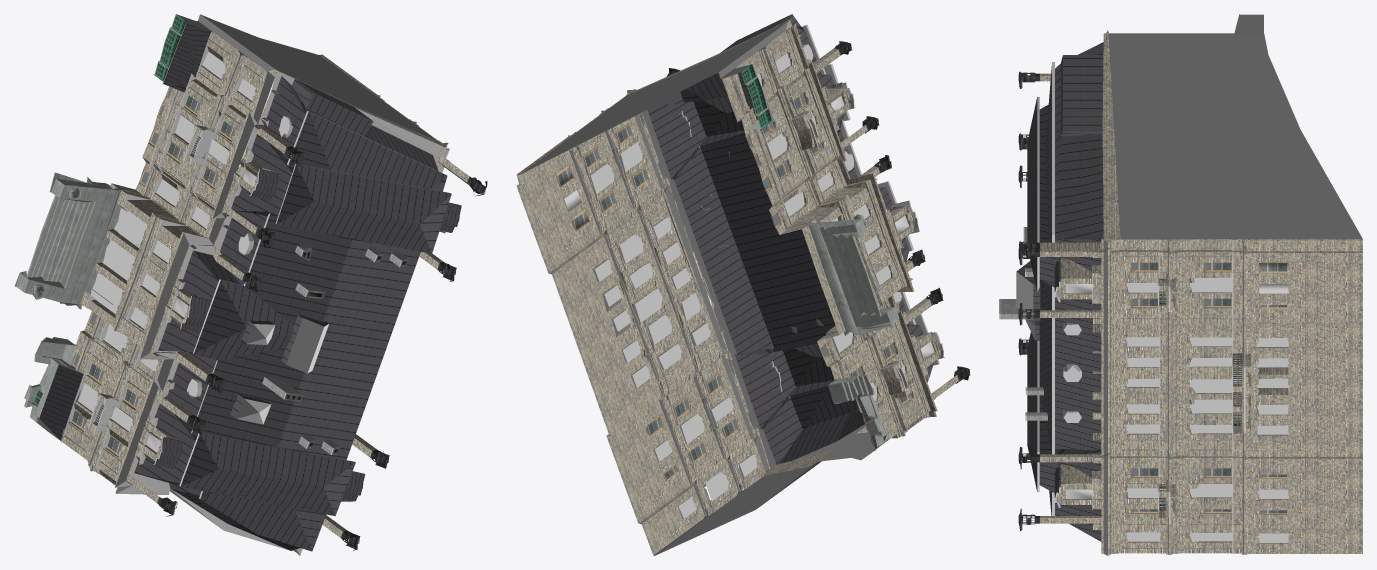
The model's file is Kohtu_6_1-origo.obj.
3 renders of one model, left to right at view 1: azimuth 30°, elevation 25°; view 2: azimuth 150°, elevation 25°; view 3: azimuth 270°, elevation 25°, orthographic. The views are drawn at different scales.
Visible parts, largest first — view 1: Kohtu_6_1; view 2: Kohtu_6_1; view 3: Kohtu_6_1.
Part boxes in pixels (x1,y1,x2,y2): Kohtu_6_1: (14,14,487,555); Kohtu_6_1: (516,14,970,555); Kohtu_6_1: (999,14,1362,555).
Size of the model in its own units: 30.81 by 40.5 by 25.89.
